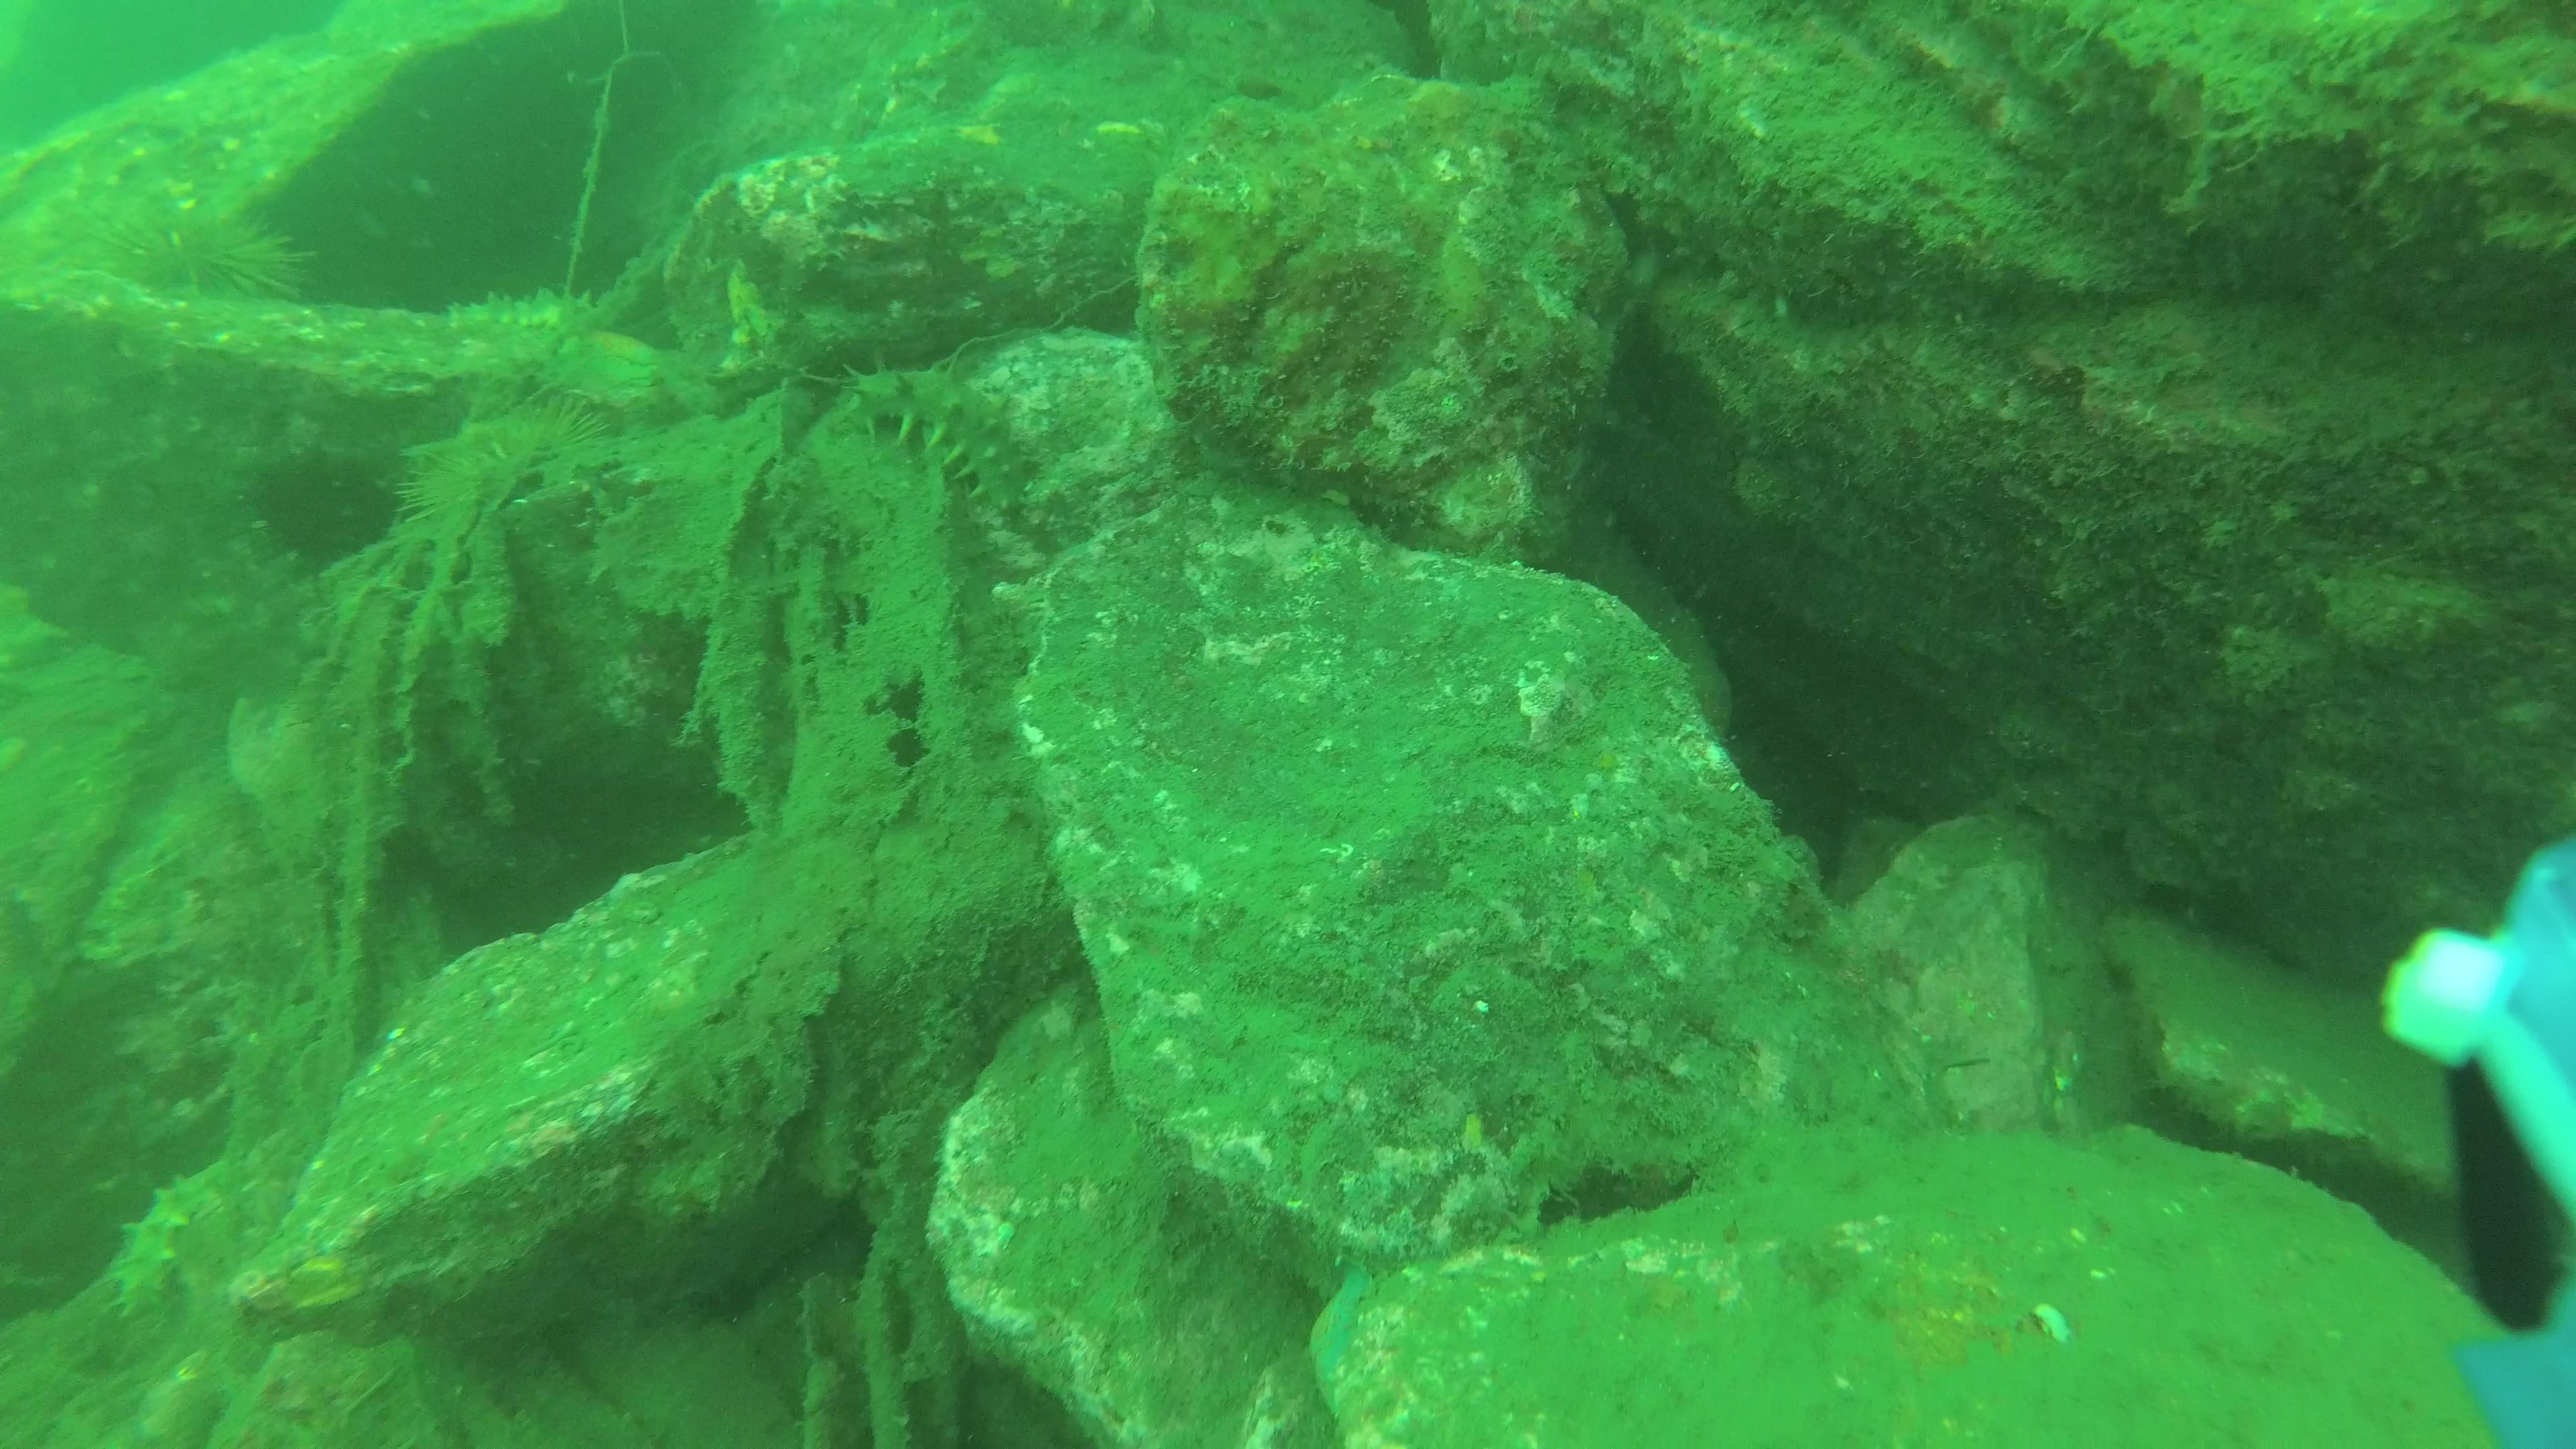echinus: (64, 193, 313, 315), (396, 386, 614, 525)
holothurian: (826, 357, 1037, 534), (115, 1150, 241, 1320)
